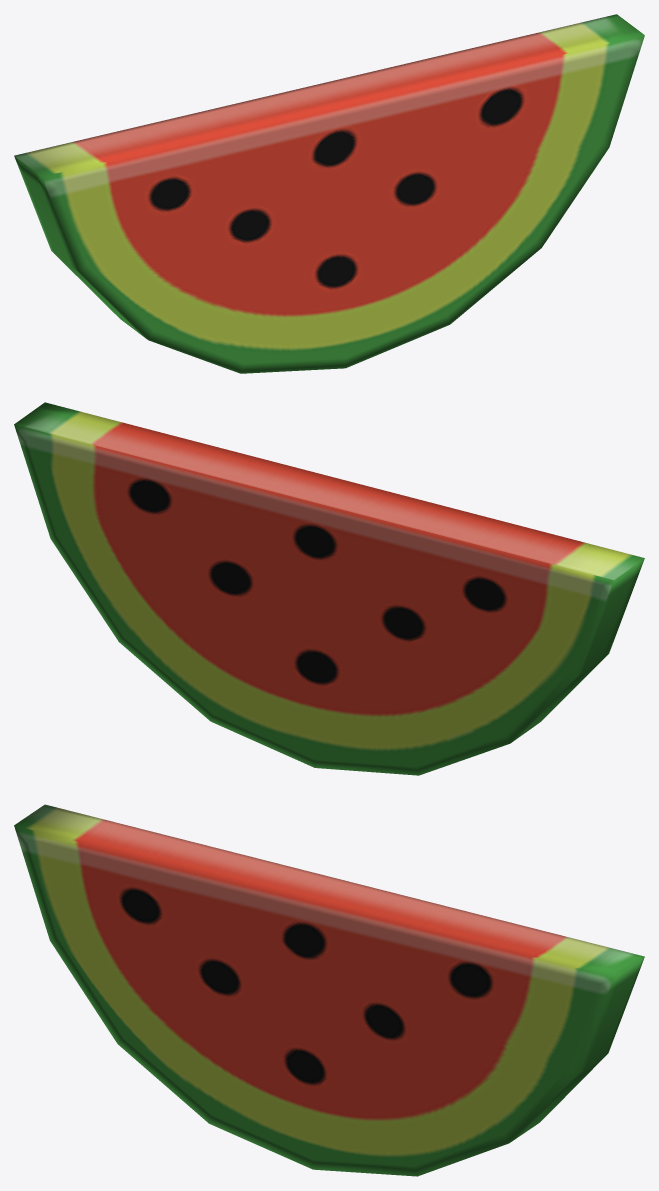
The model's file is red_melon.glb.
3 renders of one model, top to bottom at view 1: azimuth 30°, elevation 25°; view 2: azimuth 150°, elevation 25°; view 3: azimuth 330°, elevation 25°, orthographic. The views are drawn at different scales.
Parts seen in each view (by area): view 1: red_melon; view 2: red_melon; view 3: red_melon.
Part boxes in pixels (x1,y1,x2,y2): red_melon: [14, 14, 644, 373]; red_melon: [14, 402, 644, 775]; red_melon: [14, 804, 644, 1176].
Bounding box in the file's own units: 0.9513 × 0.4007 × 0.102.
1 material, 1 textured.
